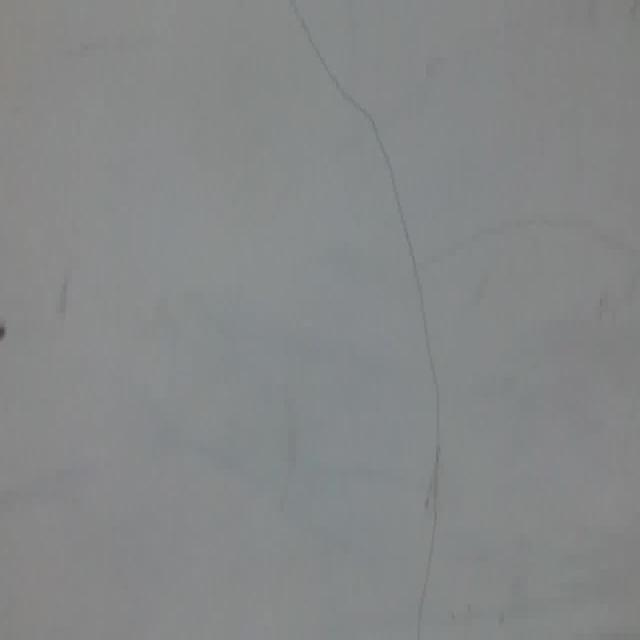Crack: (289, 0, 499, 640), (451, 191, 640, 309)
